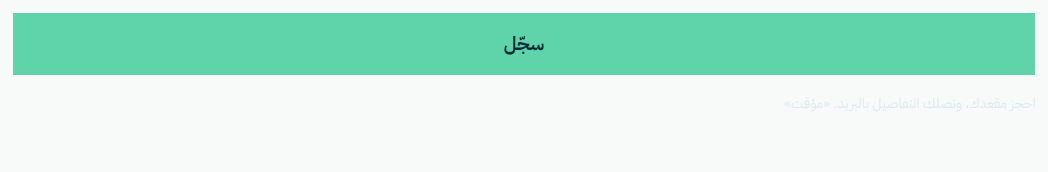
RegisterButton › disables the button while the action is pending
What coordinates should you click on to do the following:
click the button "سجّل"
I would click on:
 (524, 44)
Its box is [12,12,1036,76].
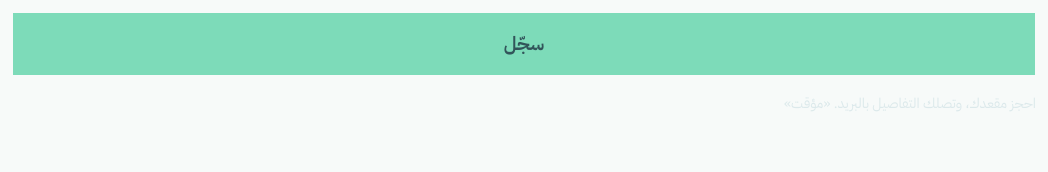
Expected: the button "سجّل" is disabled, [12,12,1036,76]
